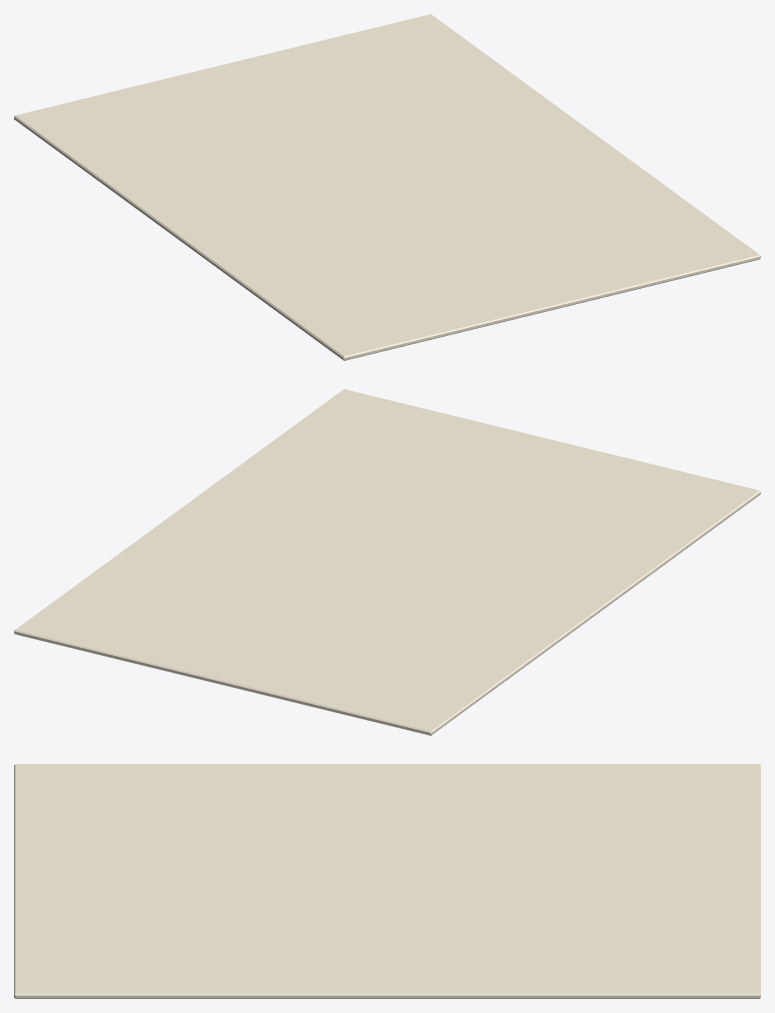
File: Book_Sheet.fbx
The picture shows the model from 3 angles, top to bottom: view 1: azimuth 30°, elevation 25°; view 2: azimuth 150°, elevation 25°; view 3: azimuth 270°, elevation 25°; orthographic projection. The views are drawn at different scales.
Parts seen in each view (by area): view 1: Book_Sheet; view 2: Book_Sheet; view 3: Book_Sheet.
Part boxes in pixels (x1,y1,x2,y2): Book_Sheet: (14, 14, 760, 360); Book_Sheet: (14, 389, 760, 735); Book_Sheet: (14, 764, 760, 998).
Size of the model in its own units: 0.38 by 0.004 by 0.52.
